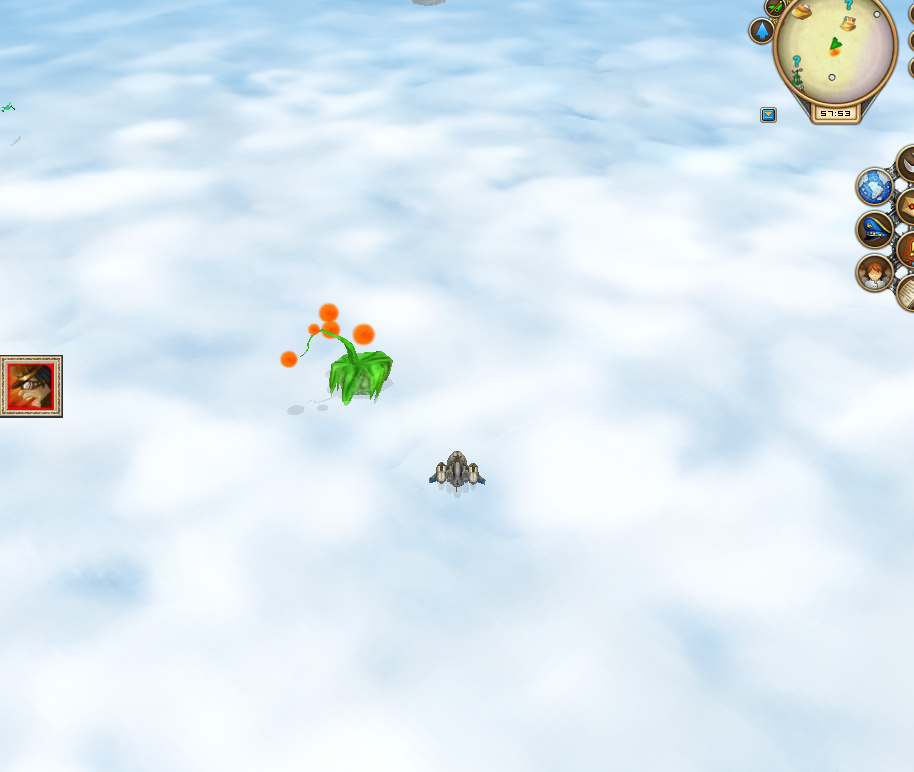dandelion-full: (269, 298, 396, 409)
